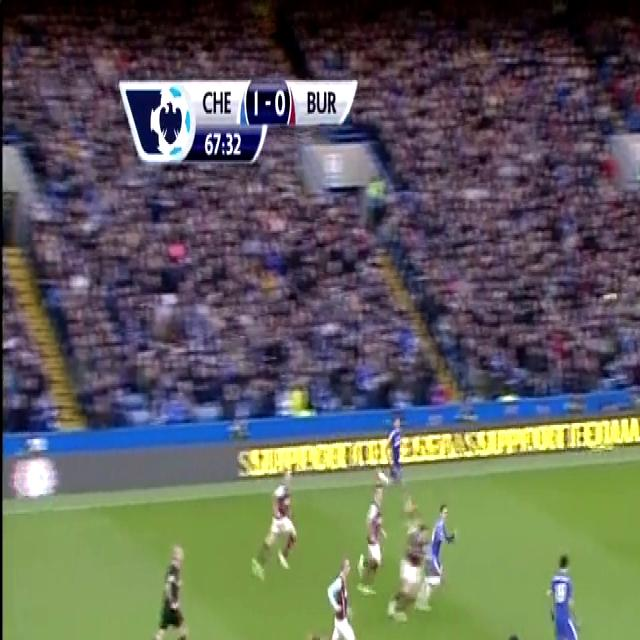referee: (138, 528, 193, 640)
soccer-player: (252, 461, 304, 590), (302, 554, 376, 640), (388, 512, 434, 632), (541, 533, 589, 640), (420, 494, 457, 605), (356, 479, 389, 599), (378, 409, 406, 487), (468, 624, 530, 640)
